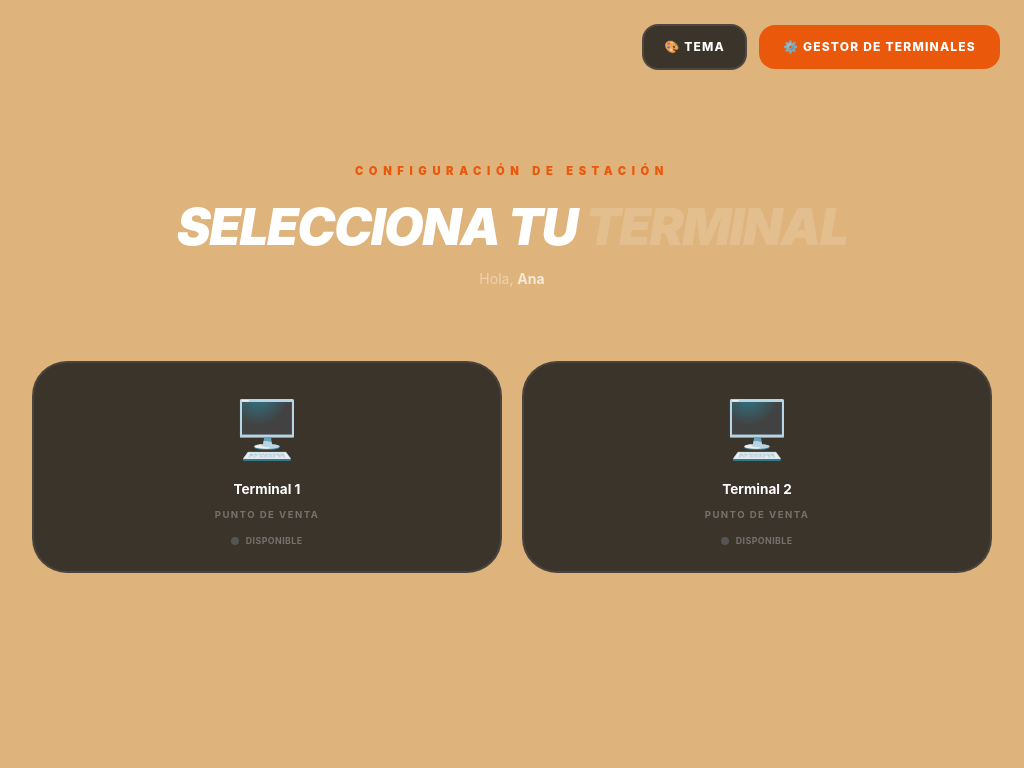
it: F10.2 — B-01: Copiar URL de acceso directo › criterio 1: el botón "Copiar URL" existe por cada terminal en el gestor
Click the button "⚙️ Gestor de Terminales".
click(880, 47)  # box [759, 25, 1000, 69]
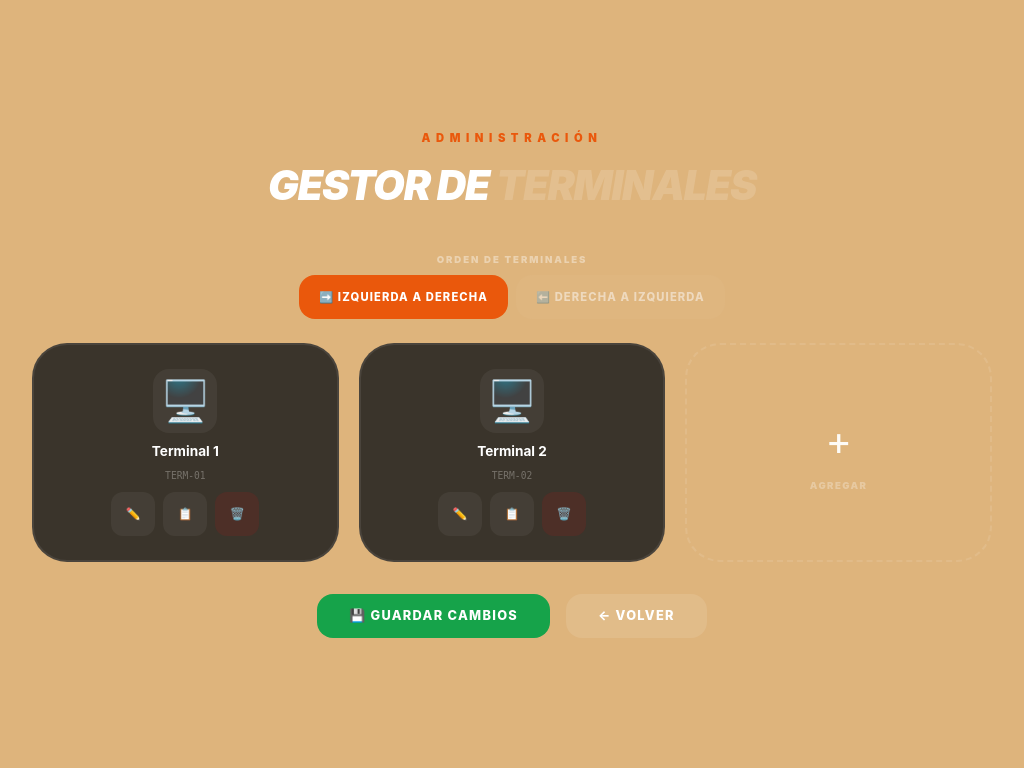
Expected: the button with test id "orden-izq-der" is shown, [299, 275, 508, 319]
Expected: the button with test id "copiar-url-TERM-01" is shown, [163, 492, 207, 536]
Expected: the button with test id "copiar-url-TERM-02" is shown, [490, 492, 534, 536]
